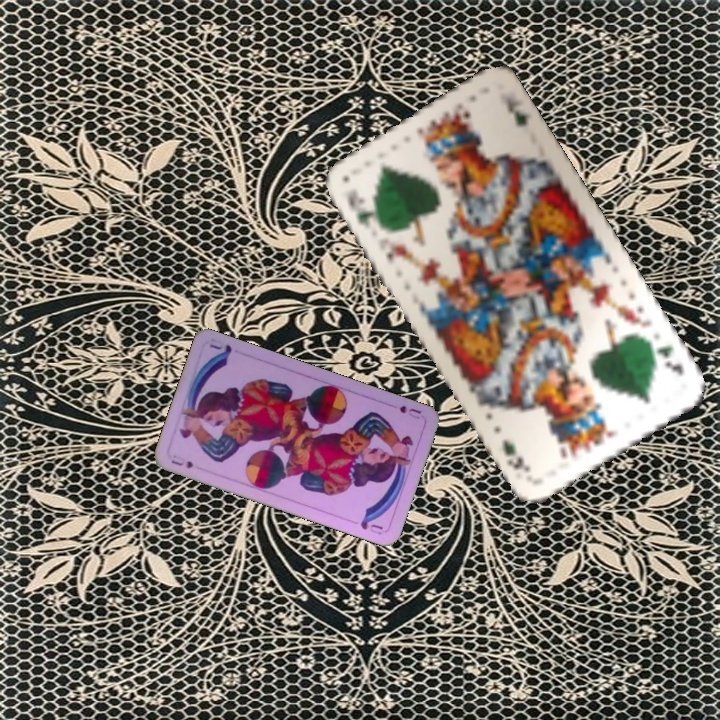GK: (342, 187, 383, 233), (643, 337, 687, 379)
SU: (395, 401, 424, 422), (167, 452, 196, 471)
